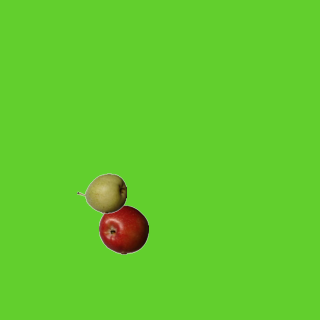Apple Braeburn: (98, 204, 148, 254)
Pear: (76, 168, 126, 218)
